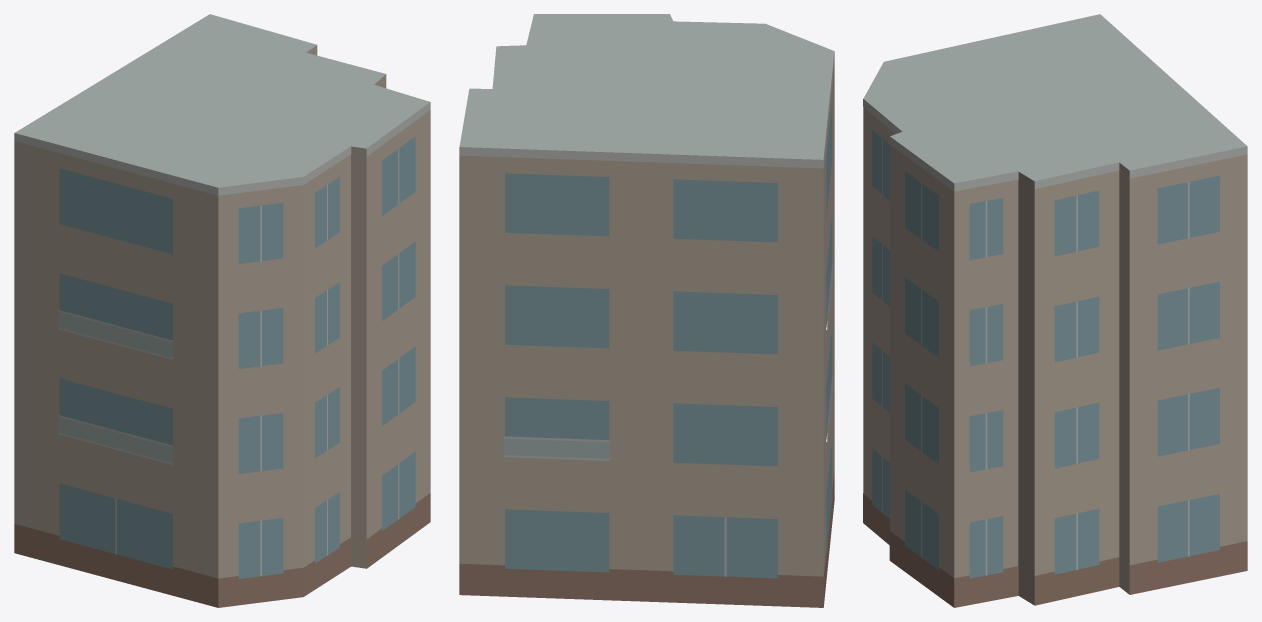
The model's file is survey-upis-32743110.glb.
3 views of the same model, side by side, from view 1: azimuth 30°, elevation 25°; view 2: azimuth 150°, elevation 25°; view 3: azimuth 270°, elevation 25° (orthographic). The views are drawn at different scales.
Visible parts, largest first — view 1: survey-upis-32743110.tmp; view 2: survey-upis-32743110.tmp; view 3: survey-upis-32743110.tmp.
Part boxes in pixels (bbox=[...]): survey-upis-32743110.tmp: bbox=[14, 14, 430, 607]; survey-upis-32743110.tmp: bbox=[459, 14, 834, 607]; survey-upis-32743110.tmp: bbox=[863, 14, 1247, 607].
Size of the model in its own units: 10.97 by 12.8 by 10.52.
